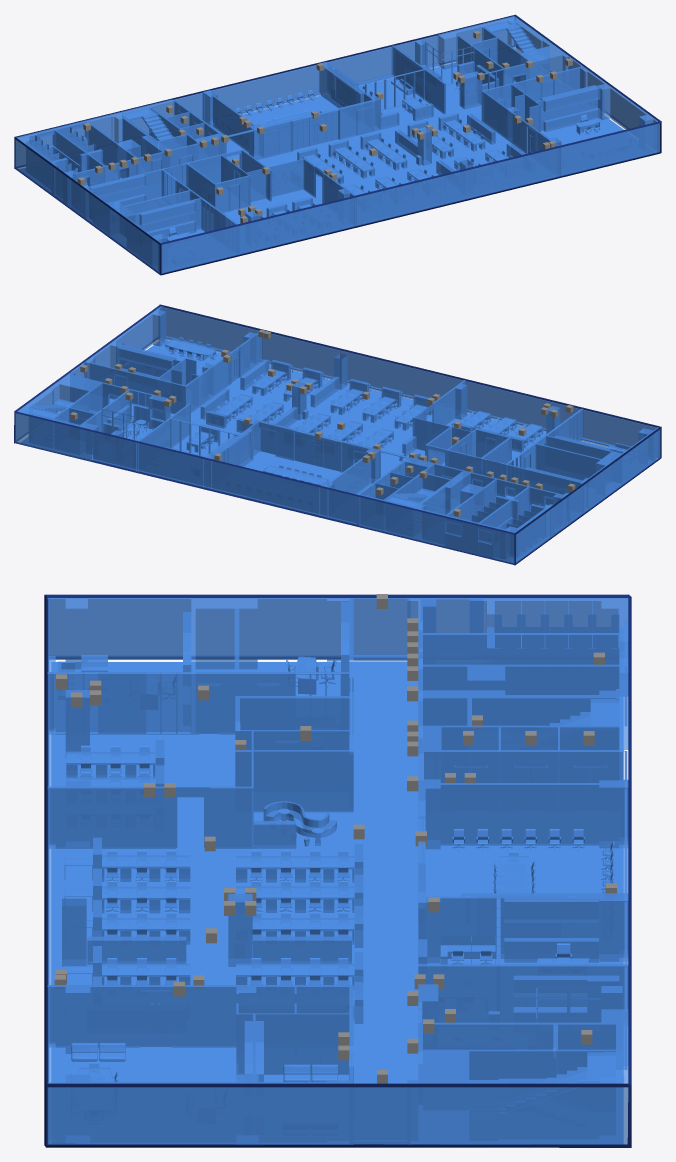
3 views of the same model, one above another, from view 1: azimuth 30°, elevation 25°; view 2: azimuth 150°, elevation 25°; view 3: azimuth 270°, elevation 25° (orthographic). The views are drawn at different scales.
Visible parts, largest first — view 1: qiangti1, Rectangledimian, guangdai1; view 2: qiangti1, Rectangledimian, guangdai1; view 3: qiangti1, Rectangledimian, guangdai1.
Boxes of the visible parts, <box> form: qiangti1: <box>15,16,659,273</box>; Rectangledimian: <box>19,63,623,271</box>; guangdai1: <box>14,14,661,275</box>; qiangti1: <box>14,306,660,563</box>; Rectangledimian: <box>21,340,655,562</box>; guangdai1: <box>14,304,661,565</box>; qiangti1: <box>47,598,628,1144</box>; Rectangledimian: <box>51,662,623,1143</box>; guangdai1: <box>44,594,631,1147</box>.
Size of the model in its own units: 51.93 by 26.32 by 3.38.
